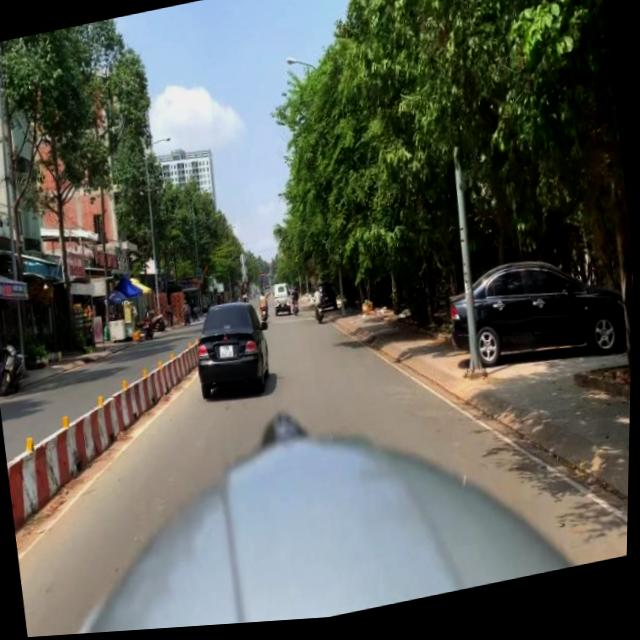Cam di nguoc chieu: (262, 275, 266, 282)
Vong chuong ngai vat sang phai: (263, 281, 267, 287)
